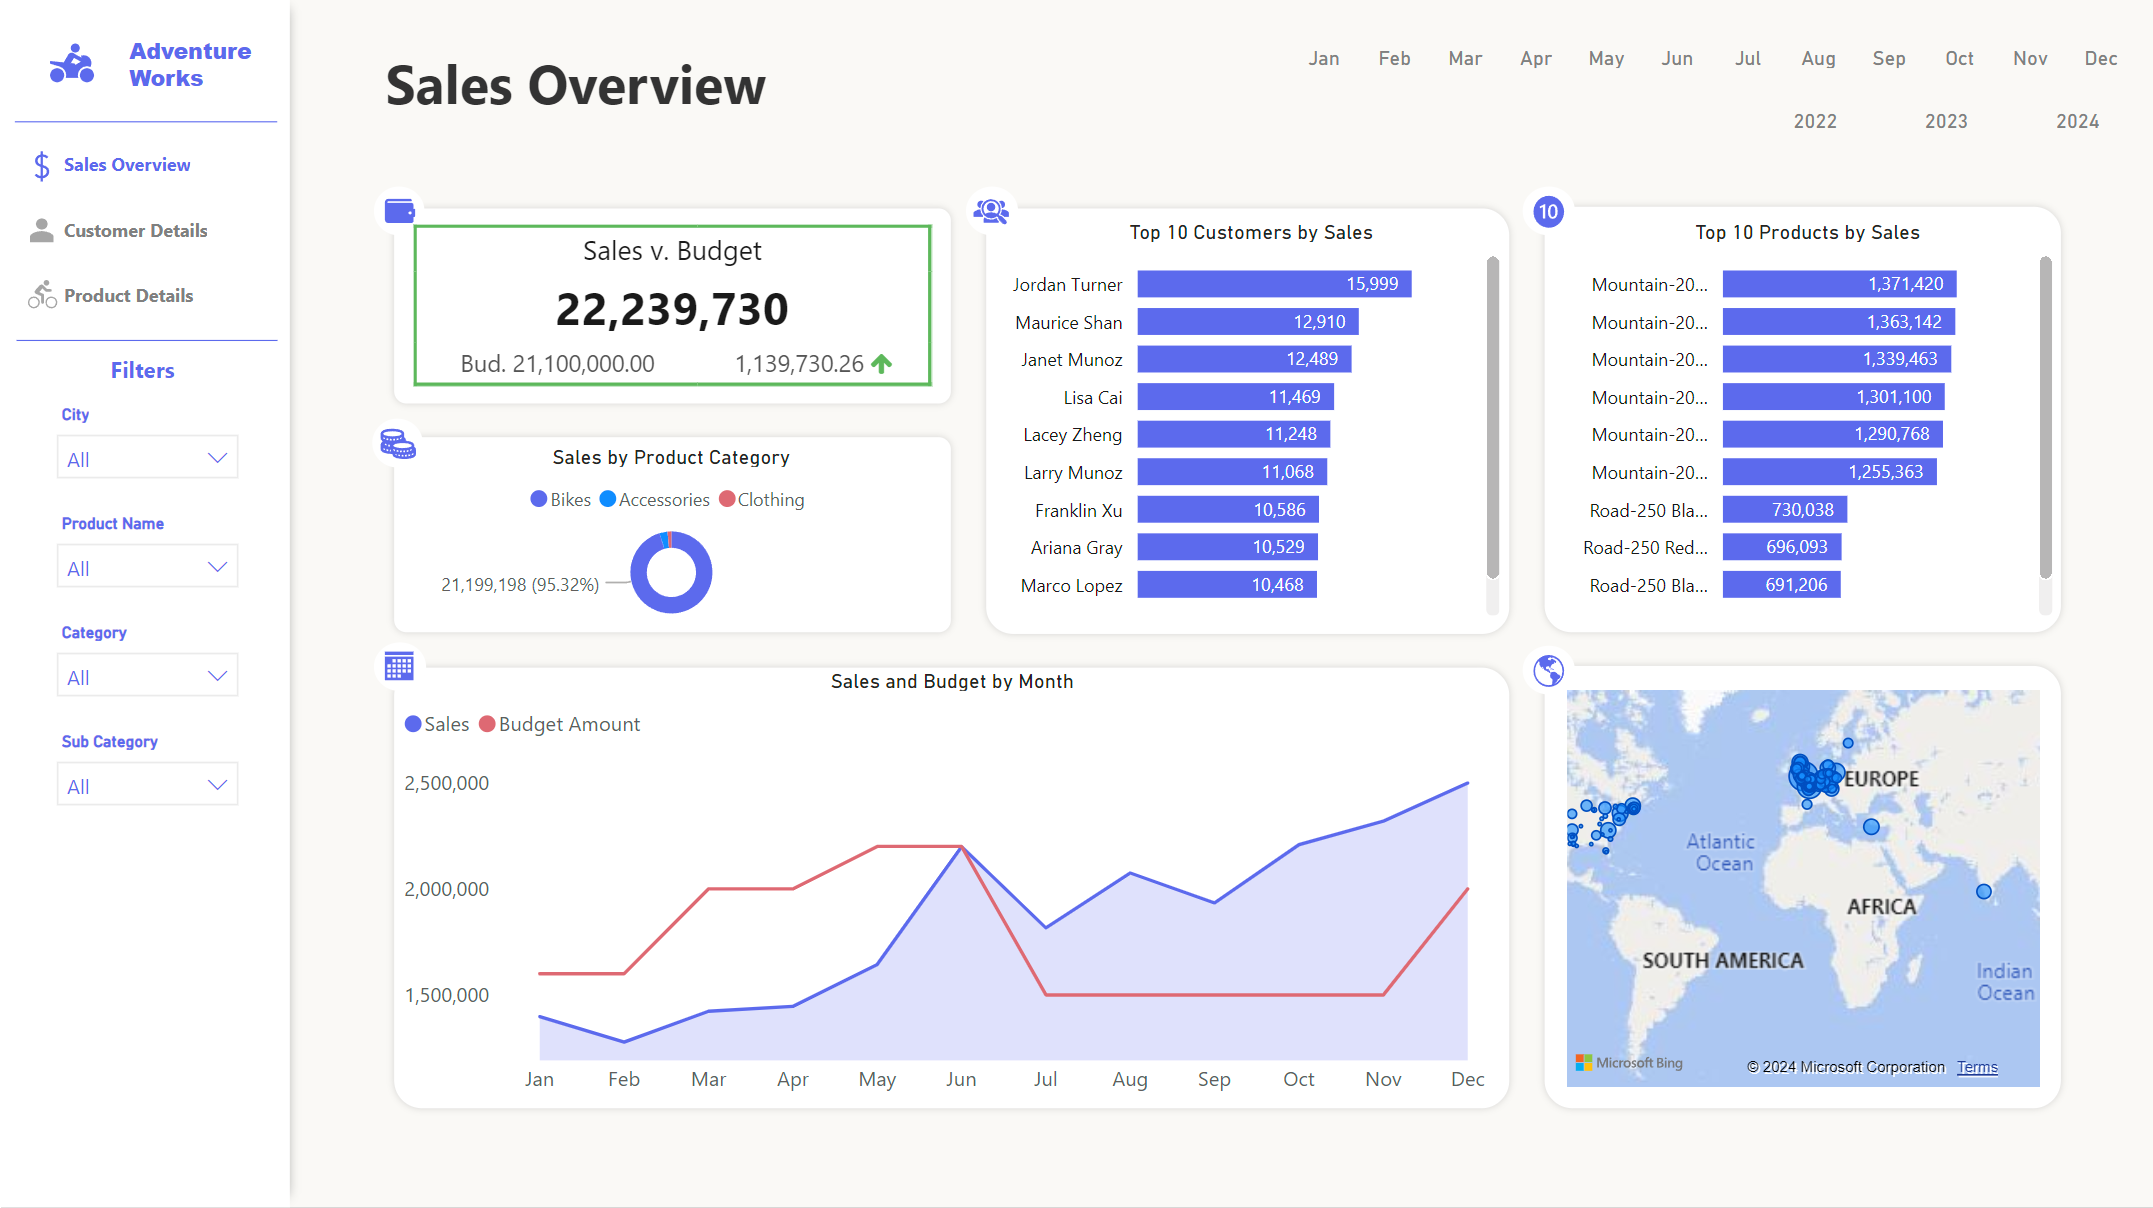

The page's visual inventory and layout, read from the dashboard file:
{"tool":"powerbi","page":{"name":" Sales Overview","canvas":[1280,720],"ordinal":0},"visuals":[{"type":"shape","box":[223,253.1,333.6,143.1],"z":0},{"type":"shape","box":[223,404.2,680.1,278.9],"z":1000},{"type":"shape","box":[564,102.6,339.1,293.7],"z":2000},{"type":"shape","box":[911.1,102.6,339.1,293.7],"z":3000},{"type":"shape","box":[911.1,404.2,339.1,278.9],"z":4000},{"type":"shape","box":[223.6,102.6,333.6,143.1],"z":5000},{"type":"shape","box":[0,0,193.9,720],"z":6000},{"type":"shape","box":[31.1,466.1,127.8,58.4],"z":6500},{"type":"shape","box":[30.3,270.8,127.6,58.5],"z":7000},{"type":"shape","box":[31.1,401,127.8,58.4],"z":7500},{"type":"shape","box":[31.1,336.5,127.8,58.4],"z":8000},{"type":"BBED0A4D4D8D44CE93CF2DAFADEE466C","fields":{"actual":["FACT_InternetSales_CSV.Sales"],"target1":["FACT_Budget.Budget Amount"],"target2":["FACT_Budget.Sales - Budget"]},"box":[226.7,106.3,326.8,135.8],"z":9000},{"type":"lineChart","title":"Sales and Budget by Month","fields":{"Category":["DIM_Calendar_CSV.MonthShort"],"Y":["Key Measures.Sales","Key Measures.Budget Amount"]},"box":[226.7,411.6,676.4,275.8],"z":10000},{"type":"slicer","fields":{"Values":["DIM_Customers_CSV.CustomerCity"]},"box":[31.1,270.7,127.2,58.4],"z":11000},{"type":"donutChart","title":"Sales by Product Category","fields":{"Category":["DIM_Products_CSV.ProductCategory"],"Y":["Key Measures.Sales"]},"box":[224.8,261.7,328.7,128.4],"z":12000},{"type":"slicer","fields":{"Values":["DIM_Products_CSV.SubCategory"]},"box":[30.9,466,127.6,50],"z":13000},{"type":"barChart","title":"Top 10 Customers by Sales","fields":{"Y":["Key Measures.Sales"],"Category":["DIM_Customers_CSV.FullName"]},"box":[567,103.2,332.4,286.9],"z":14000},{"type":"slicer","fields":{"Values":["DIM_Products_CSV.ProductCategory"]},"box":[30.9,401.2,127.6,50],"z":15000},{"type":"barChart","title":"Top 10 Products by Sales","fields":{"Y":["Key Measures.Sales"],"Category":["DIM_Products_CSV.ProductName"]},"box":[914.1,106.3,332.4,285.1],"z":16000},{"type":"slicer","fields":{"Values":["DIM_Products_CSV.ProductName"]},"box":[30.9,336.3,127.6,50],"z":17000},{"type":"textbox","box":[223.2,24,349.6,60],"z":20000},{"type":"pageNavigator","box":[14.7,101.6,165.3,111.8],"z":21000},{"type":"map","fields":{"Category":["DIM_Customers_CSV.CustomerCity"],"Size":["Sum(FACT_InternetSales_CSV.SalesAmount)"]},"box":[914.1,407.3,332.4,275.8],"z":22000},{"type":"advancedSlicerVisual","fields":{"Values":["DIM_Calendar_CSV.MonthShort"]},"box":[790.4,31,489.6,36.8],"z":23000},{"type":"advancedSlicerVisual","fields":{"Values":["DIM_Calendar_CSV.Year"]},"box":[640,31.8,142.4,36.8],"z":24000},{"type":"image","box":[19.7,105.3,24.6,25.8],"z":25000},{"type":"image","box":[19,144,24.6,25.8],"z":26000},{"type":"image","box":[17.2,178.4,29.5,31.3],"z":27000},{"type":"image","box":[22.4,7.2,44.8,47.2],"z":27001},{"type":"textbox","box":[65.6,9.6,107.2,51.2],"z":27002},{"type":"shape","box":[763.2,38.2,48.8,26.4],"z":27003},{"type":"textbox","box":[24.9,238.8,133.9,38.7],"z":27004}]}

Visuals, with their boxes on the page's 1280x720 design canvas (x1, y1, x2, y2). These are canvas units, not pixel positions in the 2153x1208 screenshot, which may show the page scaled, cropped or inside an application window:
shape: (x1=223, y1=253, x2=557, y2=396)
shape: (x1=223, y1=404, x2=903, y2=683)
shape: (x1=564, y1=103, x2=903, y2=396)
shape: (x1=911, y1=103, x2=1250, y2=396)
shape: (x1=911, y1=404, x2=1250, y2=683)
shape: (x1=224, y1=103, x2=557, y2=246)
shape: (x1=0, y1=0, x2=194, y2=720)
shape: (x1=31, y1=466, x2=159, y2=524)
shape: (x1=30, y1=271, x2=158, y2=329)
shape: (x1=31, y1=401, x2=159, y2=459)
shape: (x1=31, y1=336, x2=159, y2=395)
BBED0A4D4D8D44CE93CF2DAFADEE466C - FACT_InternetSales_CSV.Sales x FACT_Budget.Budget Amount: (x1=227, y1=106, x2=554, y2=242)
"Sales and Budget by Month" lineChart: (x1=227, y1=412, x2=903, y2=687)
slicer - DIM_Customers_CSV.CustomerCity: (x1=31, y1=271, x2=158, y2=329)
"Sales by Product Category" donutChart: (x1=225, y1=262, x2=554, y2=390)
slicer - DIM_Products_CSV.SubCategory: (x1=31, y1=466, x2=158, y2=516)
"Top 10 Customers by Sales" barChart: (x1=567, y1=103, x2=899, y2=390)
slicer - DIM_Products_CSV.ProductCategory: (x1=31, y1=401, x2=158, y2=451)
"Top 10 Products by Sales" barChart: (x1=914, y1=106, x2=1246, y2=391)
slicer - DIM_Products_CSV.ProductName: (x1=31, y1=336, x2=158, y2=386)
textbox: (x1=223, y1=24, x2=573, y2=84)
pageNavigator: (x1=15, y1=102, x2=180, y2=213)
map - DIM_Customers_CSV.CustomerCity x Sum(FACT_InternetSales_CSV.SalesAmount): (x1=914, y1=407, x2=1246, y2=683)
advancedSlicerVisual - DIM_Calendar_CSV.MonthShort: (x1=790, y1=31, x2=1280, y2=68)
advancedSlicerVisual - DIM_Calendar_CSV.Year: (x1=640, y1=32, x2=782, y2=69)
image: (x1=20, y1=105, x2=44, y2=131)
image: (x1=19, y1=144, x2=44, y2=170)
image: (x1=17, y1=178, x2=47, y2=210)
image: (x1=22, y1=7, x2=67, y2=54)
textbox: (x1=66, y1=10, x2=173, y2=61)
shape: (x1=763, y1=38, x2=812, y2=65)
textbox: (x1=25, y1=239, x2=159, y2=278)
